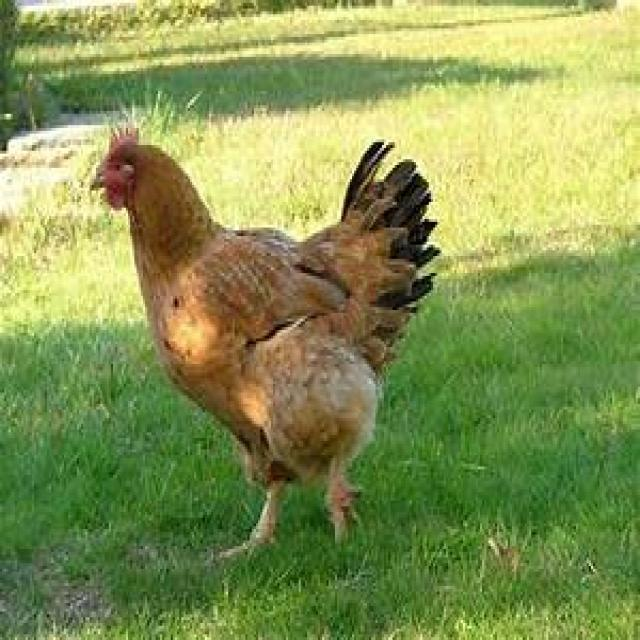hen: (95, 133, 438, 544)
